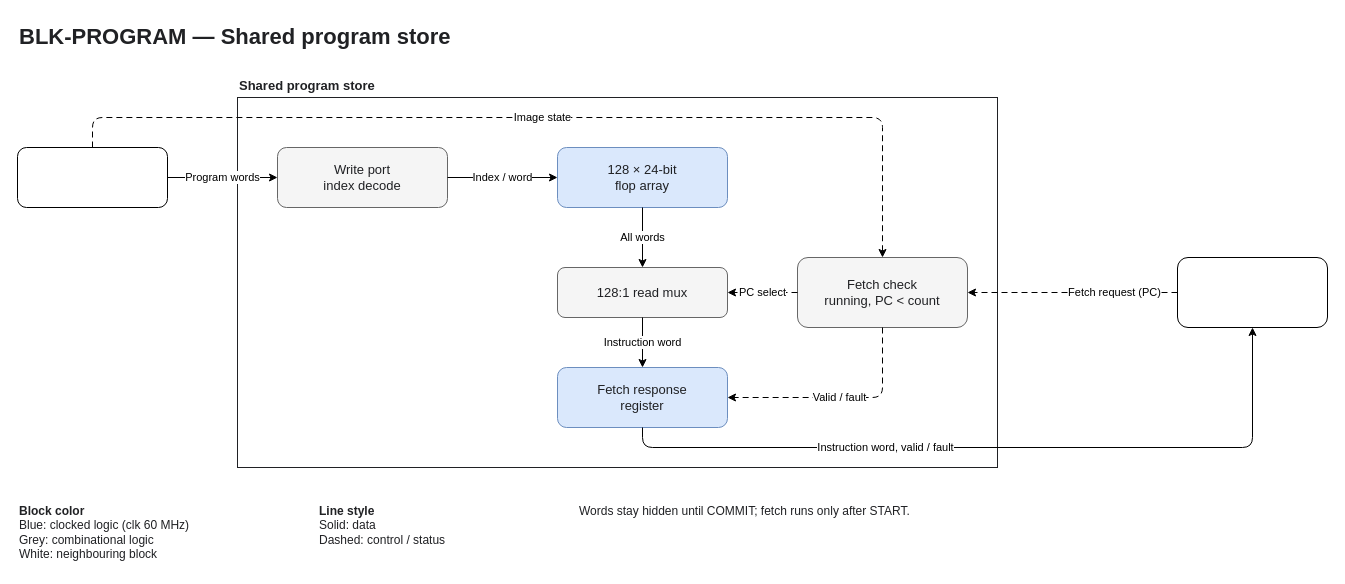
Image size: 1345x584. Some labels were removed from this diagram. The shapes that lost their labels are listed below. From the top down, each one's box as (x1, y1, x2, y2) in pixels, then its label:
(16, 146, 168, 208): BLK-HOST loader
(1176, 256, 1328, 328): BLK-CORE
